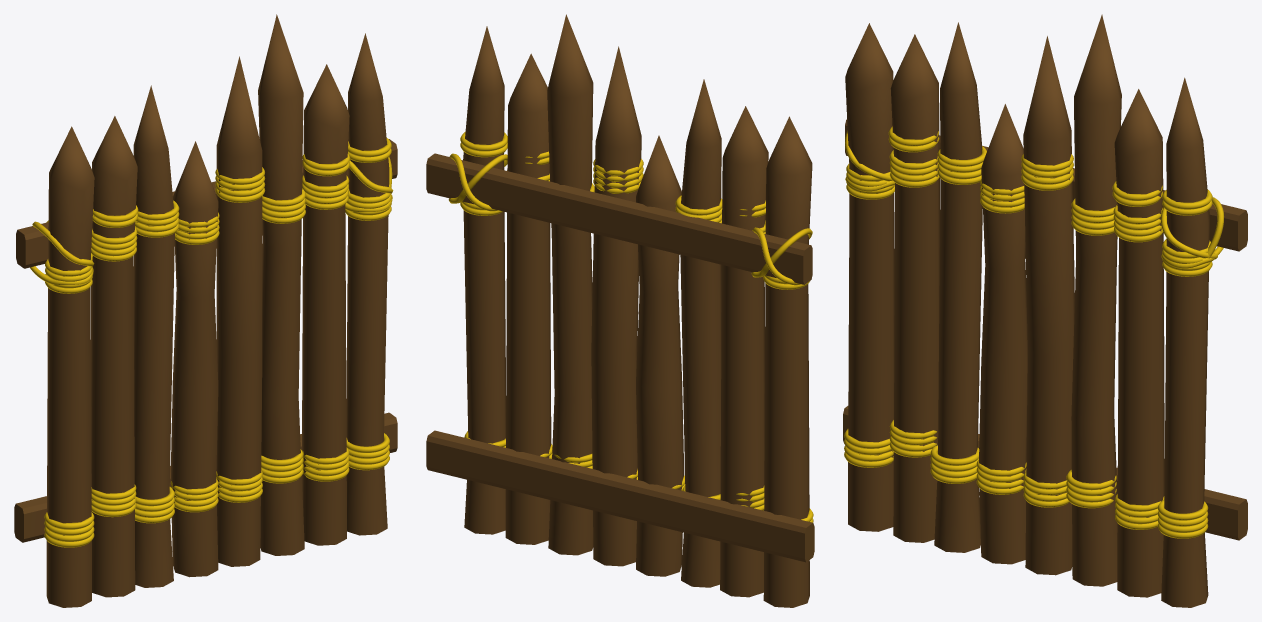
The model's file is Fence.fbx.
3 views of the same model, side by side, from view 1: azimuth 30°, elevation 25°; view 2: azimuth 150°, elevation 25°; view 3: azimuth 330°, elevation 25° (orthographic). The views are drawn at different scales.
Visible parts, largest first — view 1: Fence.001; view 2: Fence.001; view 3: Fence.001.
Boxes of the visible parts, x1=… form: Fence.001: x1=14, y1=14, x2=397, y2=607; Fence.001: x1=426, y1=14, x2=814, y2=607; Fence.001: x1=843, y1=14, x2=1247, y2=607.
Size of the model in its own units: 300 by 405 by 54.67.
1 material, 1 textured.
